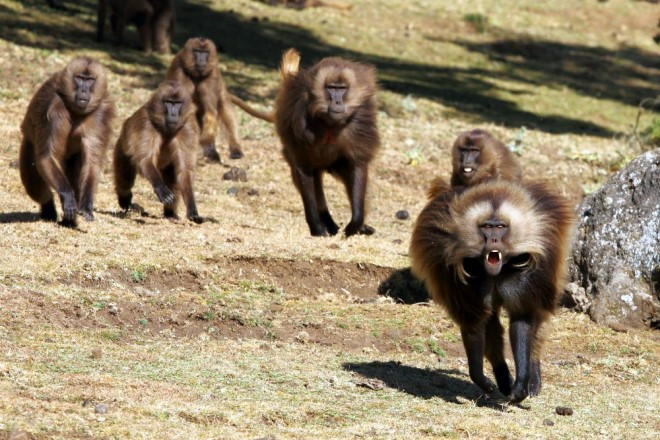Gelada: (408, 188, 567, 397), (274, 53, 385, 237), (22, 54, 108, 229), (120, 77, 198, 220), (168, 38, 243, 152), (446, 126, 522, 184)
